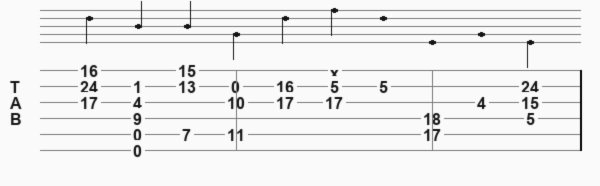0: (133, 126, 146, 142), (133, 142, 146, 158), (231, 78, 244, 94)
1: (133, 78, 146, 94)
10: (227, 94, 249, 110)
11: (227, 126, 249, 142)
13: (178, 78, 200, 94)
15: (178, 62, 200, 78), (521, 94, 543, 110)
16: (80, 62, 102, 78), (276, 78, 298, 94)
17: (80, 94, 102, 110), (276, 94, 298, 110), (325, 94, 347, 110), (423, 126, 445, 142)
18: (423, 110, 445, 126)
24: (80, 78, 102, 94), (521, 78, 543, 94)
4: (133, 94, 146, 110), (477, 94, 490, 110)
5: (330, 78, 343, 94), (379, 78, 392, 94), (526, 110, 539, 126)
7: (182, 126, 195, 142)
9: (133, 110, 146, 126)
x: (330, 64, 343, 77)
